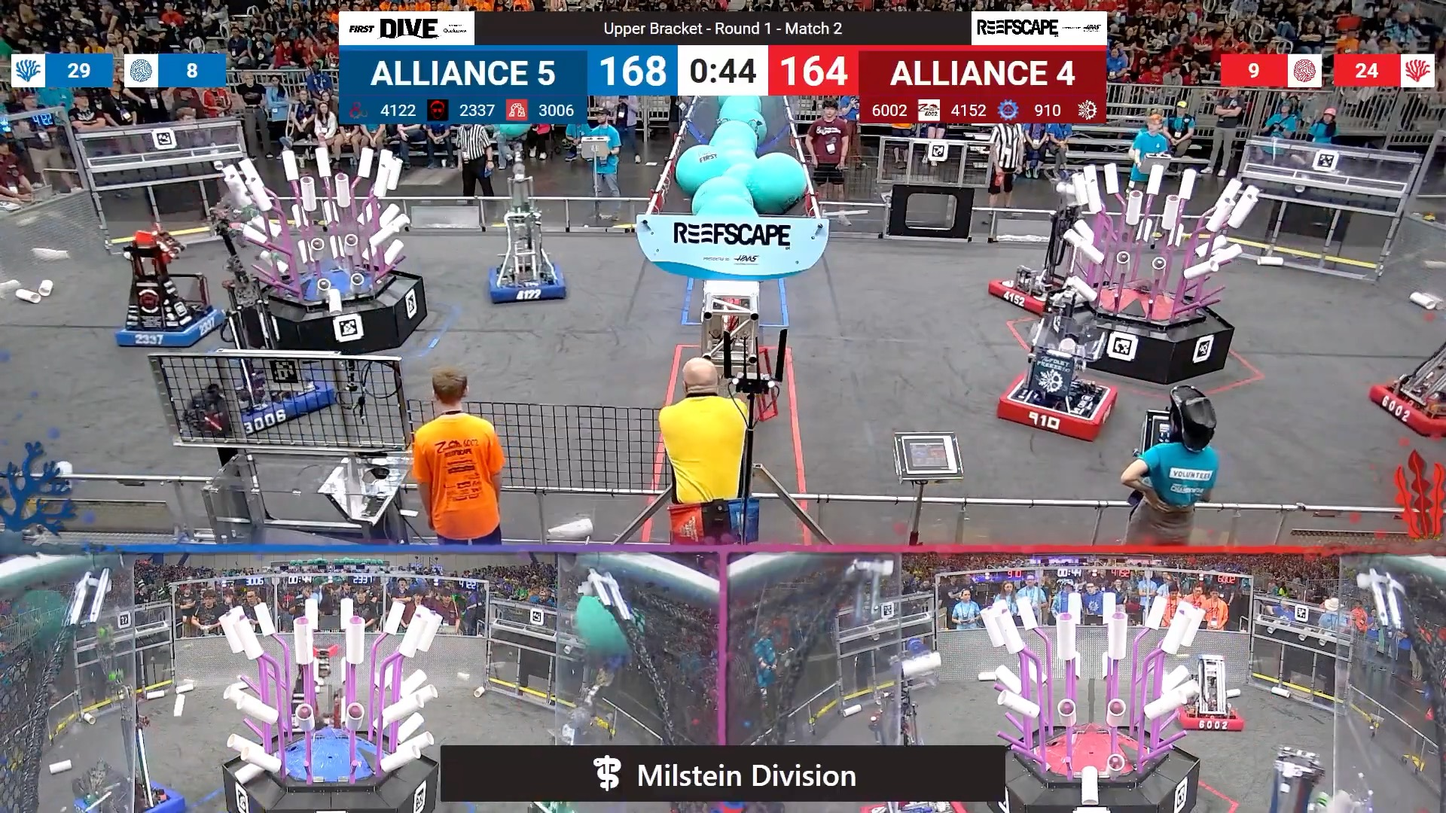bumpers: (178, 370, 342, 443), (993, 371, 1124, 446), (113, 303, 228, 352), (1362, 374, 1445, 440), (983, 269, 1083, 320), (69, 777, 192, 812), (484, 263, 570, 306), (1165, 696, 1249, 736)
